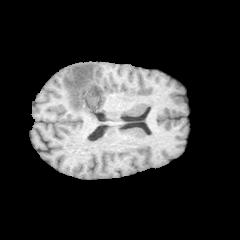glioma: (64, 62, 109, 112)
